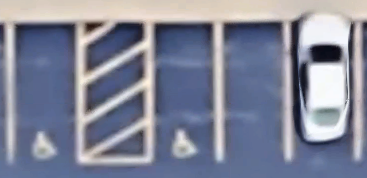Occupied: (288, 23, 358, 161)
Vacant: (148, 22, 220, 162), (8, 23, 79, 162), (218, 22, 288, 161)
